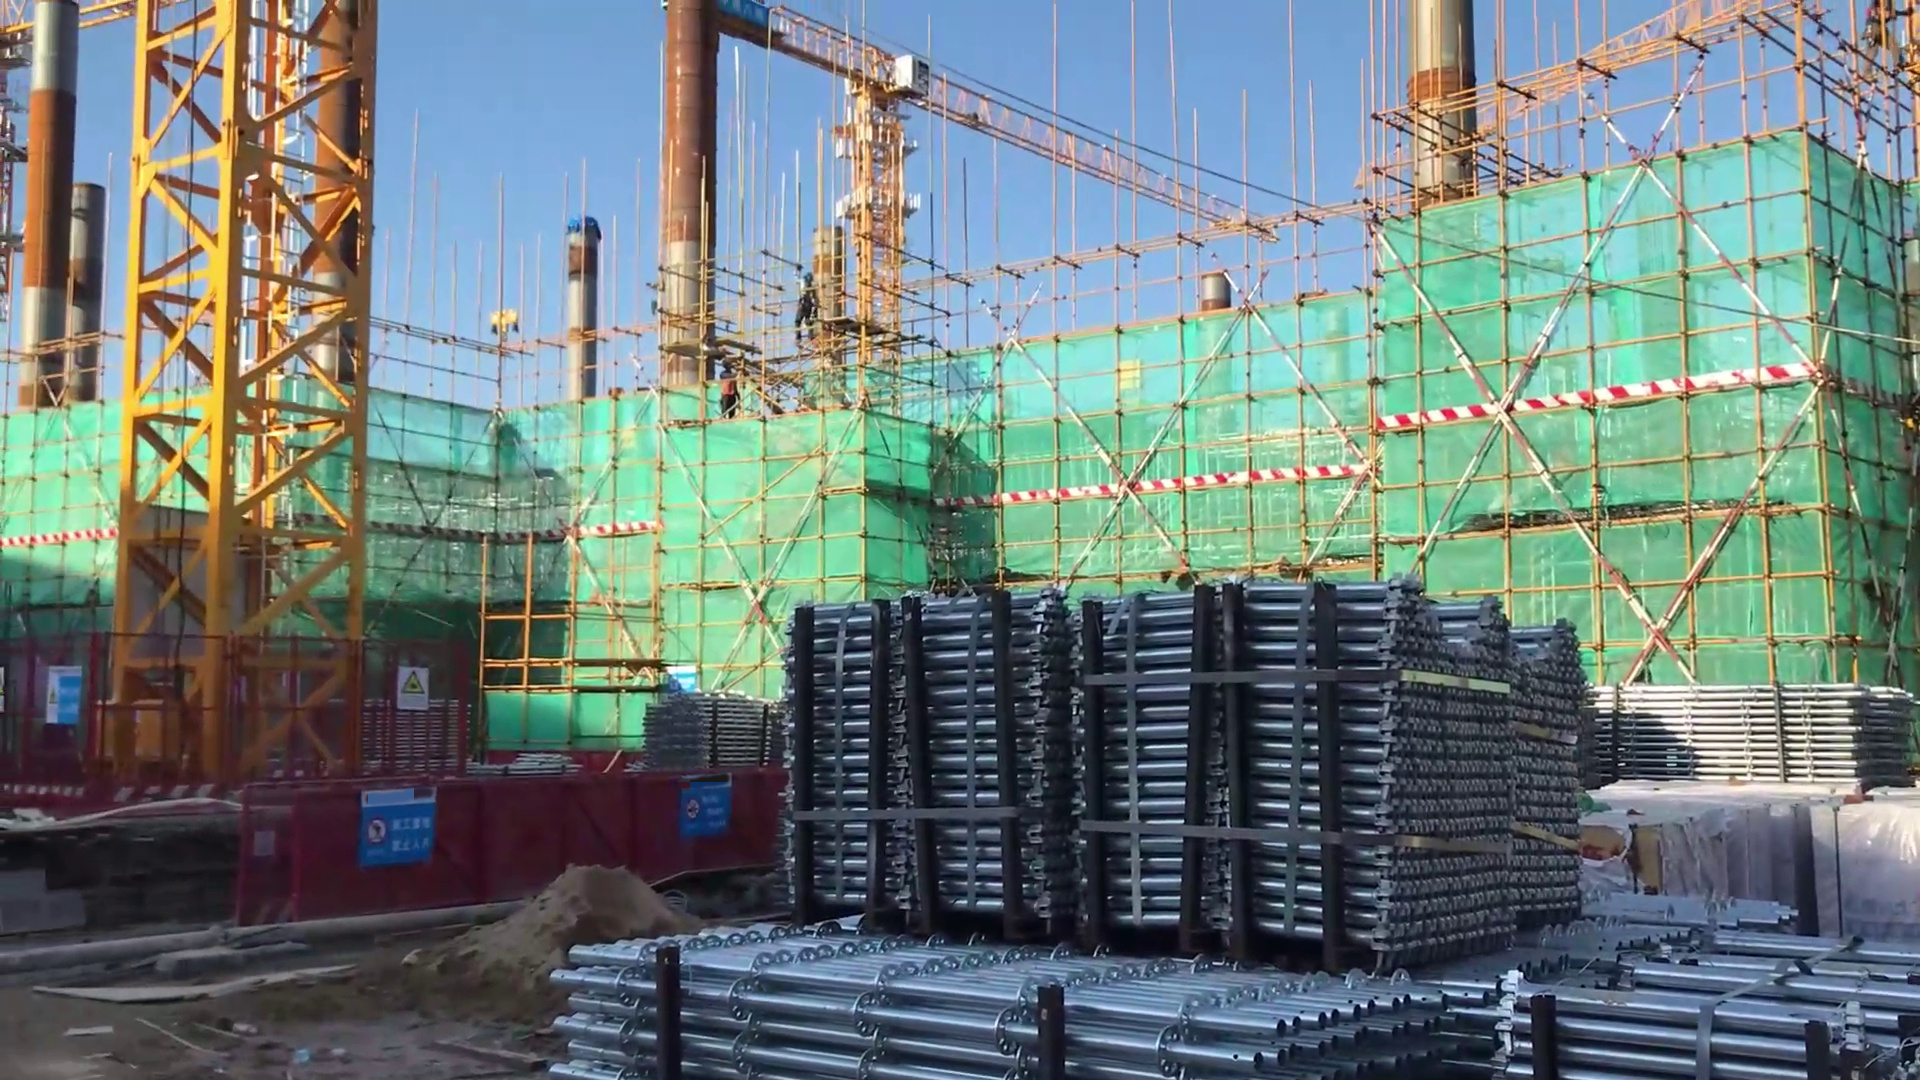fence: (19, 621, 473, 803), (262, 777, 787, 924)
person: (714, 356, 741, 423), (793, 273, 818, 338)
scaffold: (752, 569, 1618, 948), (556, 907, 1920, 1078), (1504, 898, 1919, 1080), (1577, 678, 1920, 795), (644, 691, 765, 770)
slogan: (361, 791, 438, 859), (45, 663, 102, 734), (679, 775, 737, 844), (393, 667, 438, 713), (664, 656, 698, 700)
